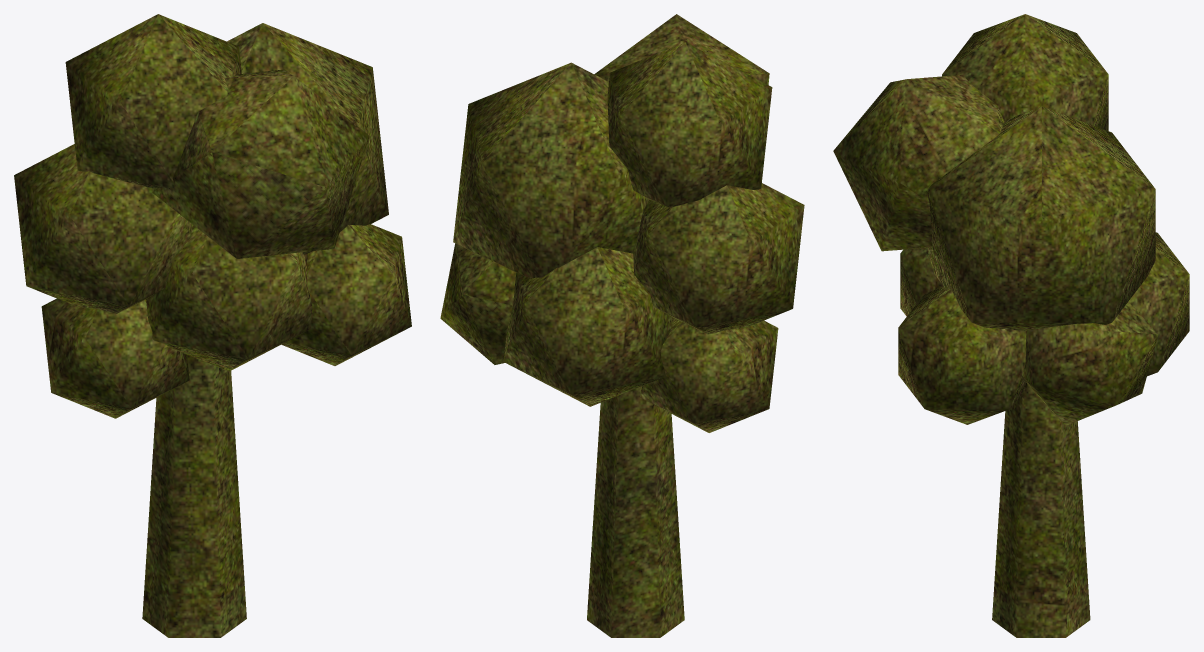
Rendered from SM_Tree_3.fbx.
The picture shows the model from 3 angles, left to right: view 1: azimuth 30°, elevation 25°; view 2: azimuth 150°, elevation 25°; view 3: azimuth 270°, elevation 25°; orthographic projection. The views are drawn at different scales.
Visible parts, largest first — view 1: SM_Tree_3; view 2: SM_Tree_3; view 3: SM_Tree_3.
Part boxes in pixels (left/top/right/bottom): SM_Tree_3: left=14, top=14, right=411, bottom=637; SM_Tree_3: left=440, top=14, right=804, bottom=637; SM_Tree_3: left=833, top=14, right=1189, bottom=637.
Size of the model in its own units: 668 by 1145 by 632.
